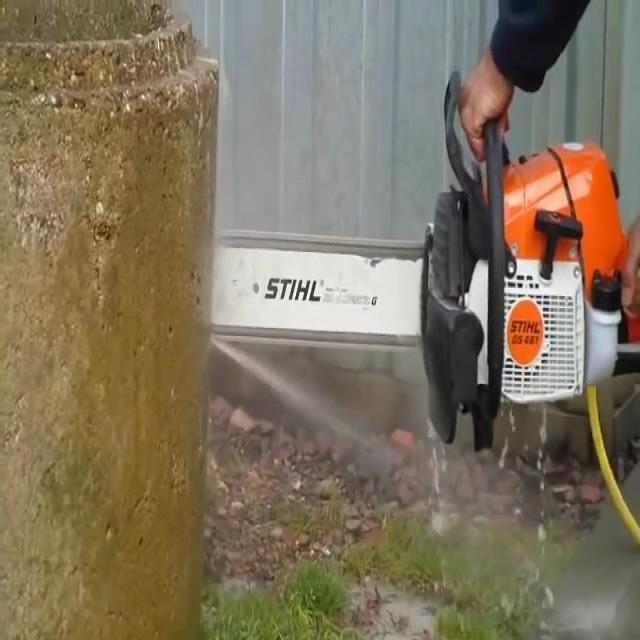Chainsaw: (185, 41, 640, 428)
